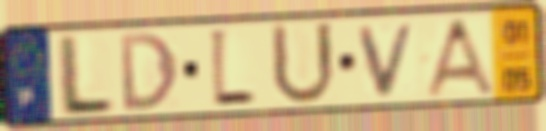A: (419, 16, 499, 100)
D: (116, 30, 182, 115)
L: (55, 32, 119, 119), (206, 26, 259, 112)
U: (268, 19, 340, 109)
V: (355, 20, 421, 100)
